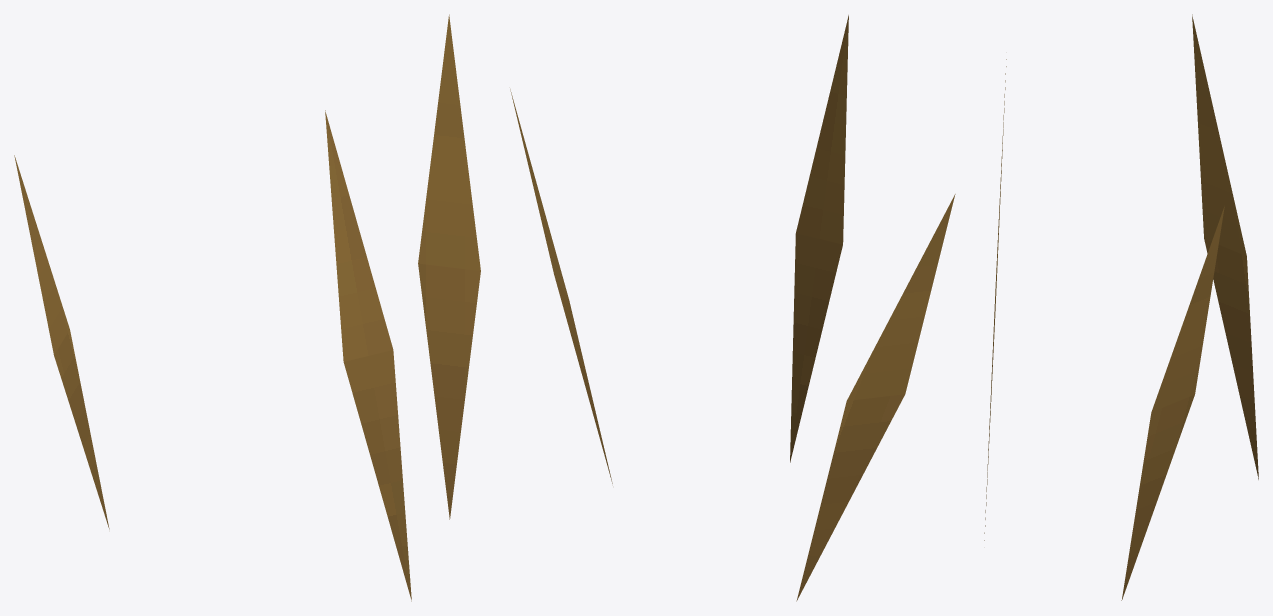
Rendered from plants_me_dlc2_main_grass301.gltf.
3 renders of one model, left to right at view 1: azimuth 30°, elevation 25°; view 2: azimuth 150°, elevation 25°; view 3: azimuth 270°, elevation 25°, orthographic. The views are drawn at different scales.
Visible parts, largest first — view 1: plants_me_dlc2_main_grass301_mesh_shape:plants_me_dlc2_main_; view 2: plants_me_dlc2_main_grass301_mesh_shape:plants_me_dlc2_main_; view 3: plants_me_dlc2_main_grass301_mesh_shape:plants_me_dlc2_main_.
Boxes of the visible parts, x1=… form: plants_me_dlc2_main_grass301_mesh_shape:plants_me_dlc2_main_: x1=14, y1=14, x2=480, y2=601; plants_me_dlc2_main_grass301_mesh_shape:plants_me_dlc2_main_: x1=510, y1=15, x2=955, y2=601; plants_me_dlc2_main_grass301_mesh_shape:plants_me_dlc2_main_: x1=984, y1=14, x2=1258, y2=600.
Bounding box in the file's own units: 0.4252 × 0.45 × 0.24.
Materials: 1 (1 with a texture image).
